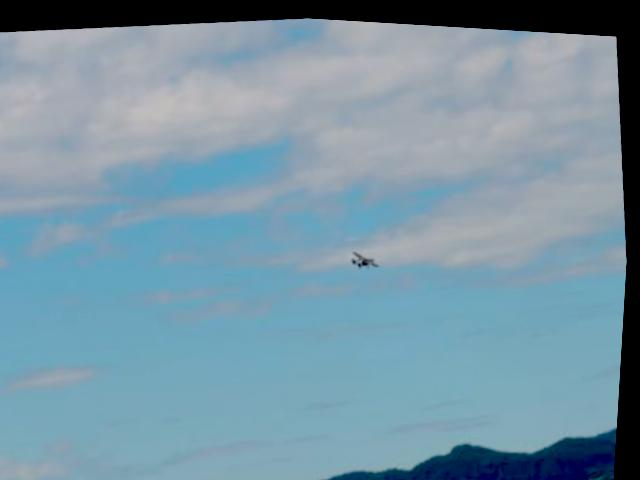uav: (351, 238, 386, 271)
